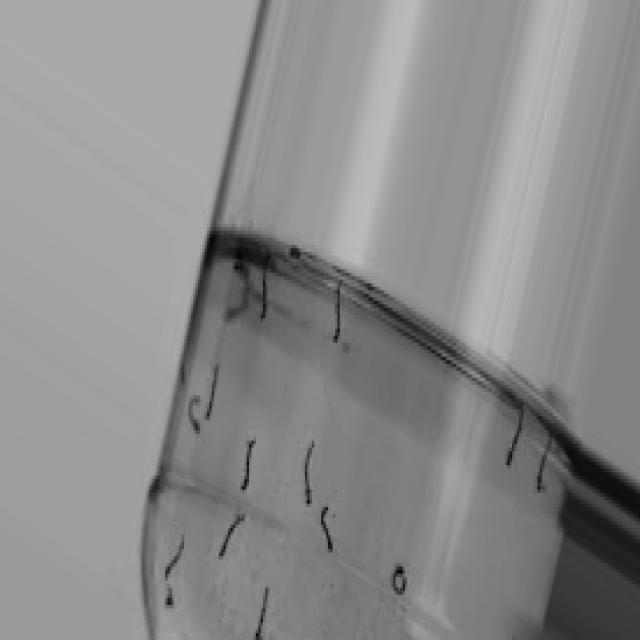larvas: (506, 408, 528, 467), (534, 438, 557, 494), (218, 514, 245, 555), (229, 271, 249, 325), (259, 253, 275, 319), (302, 444, 318, 510), (251, 589, 271, 640), (165, 537, 186, 581), (240, 439, 256, 486), (333, 277, 344, 341), (206, 361, 218, 415), (187, 398, 203, 437), (321, 506, 333, 555), (391, 563, 406, 596), (162, 588, 174, 609)
